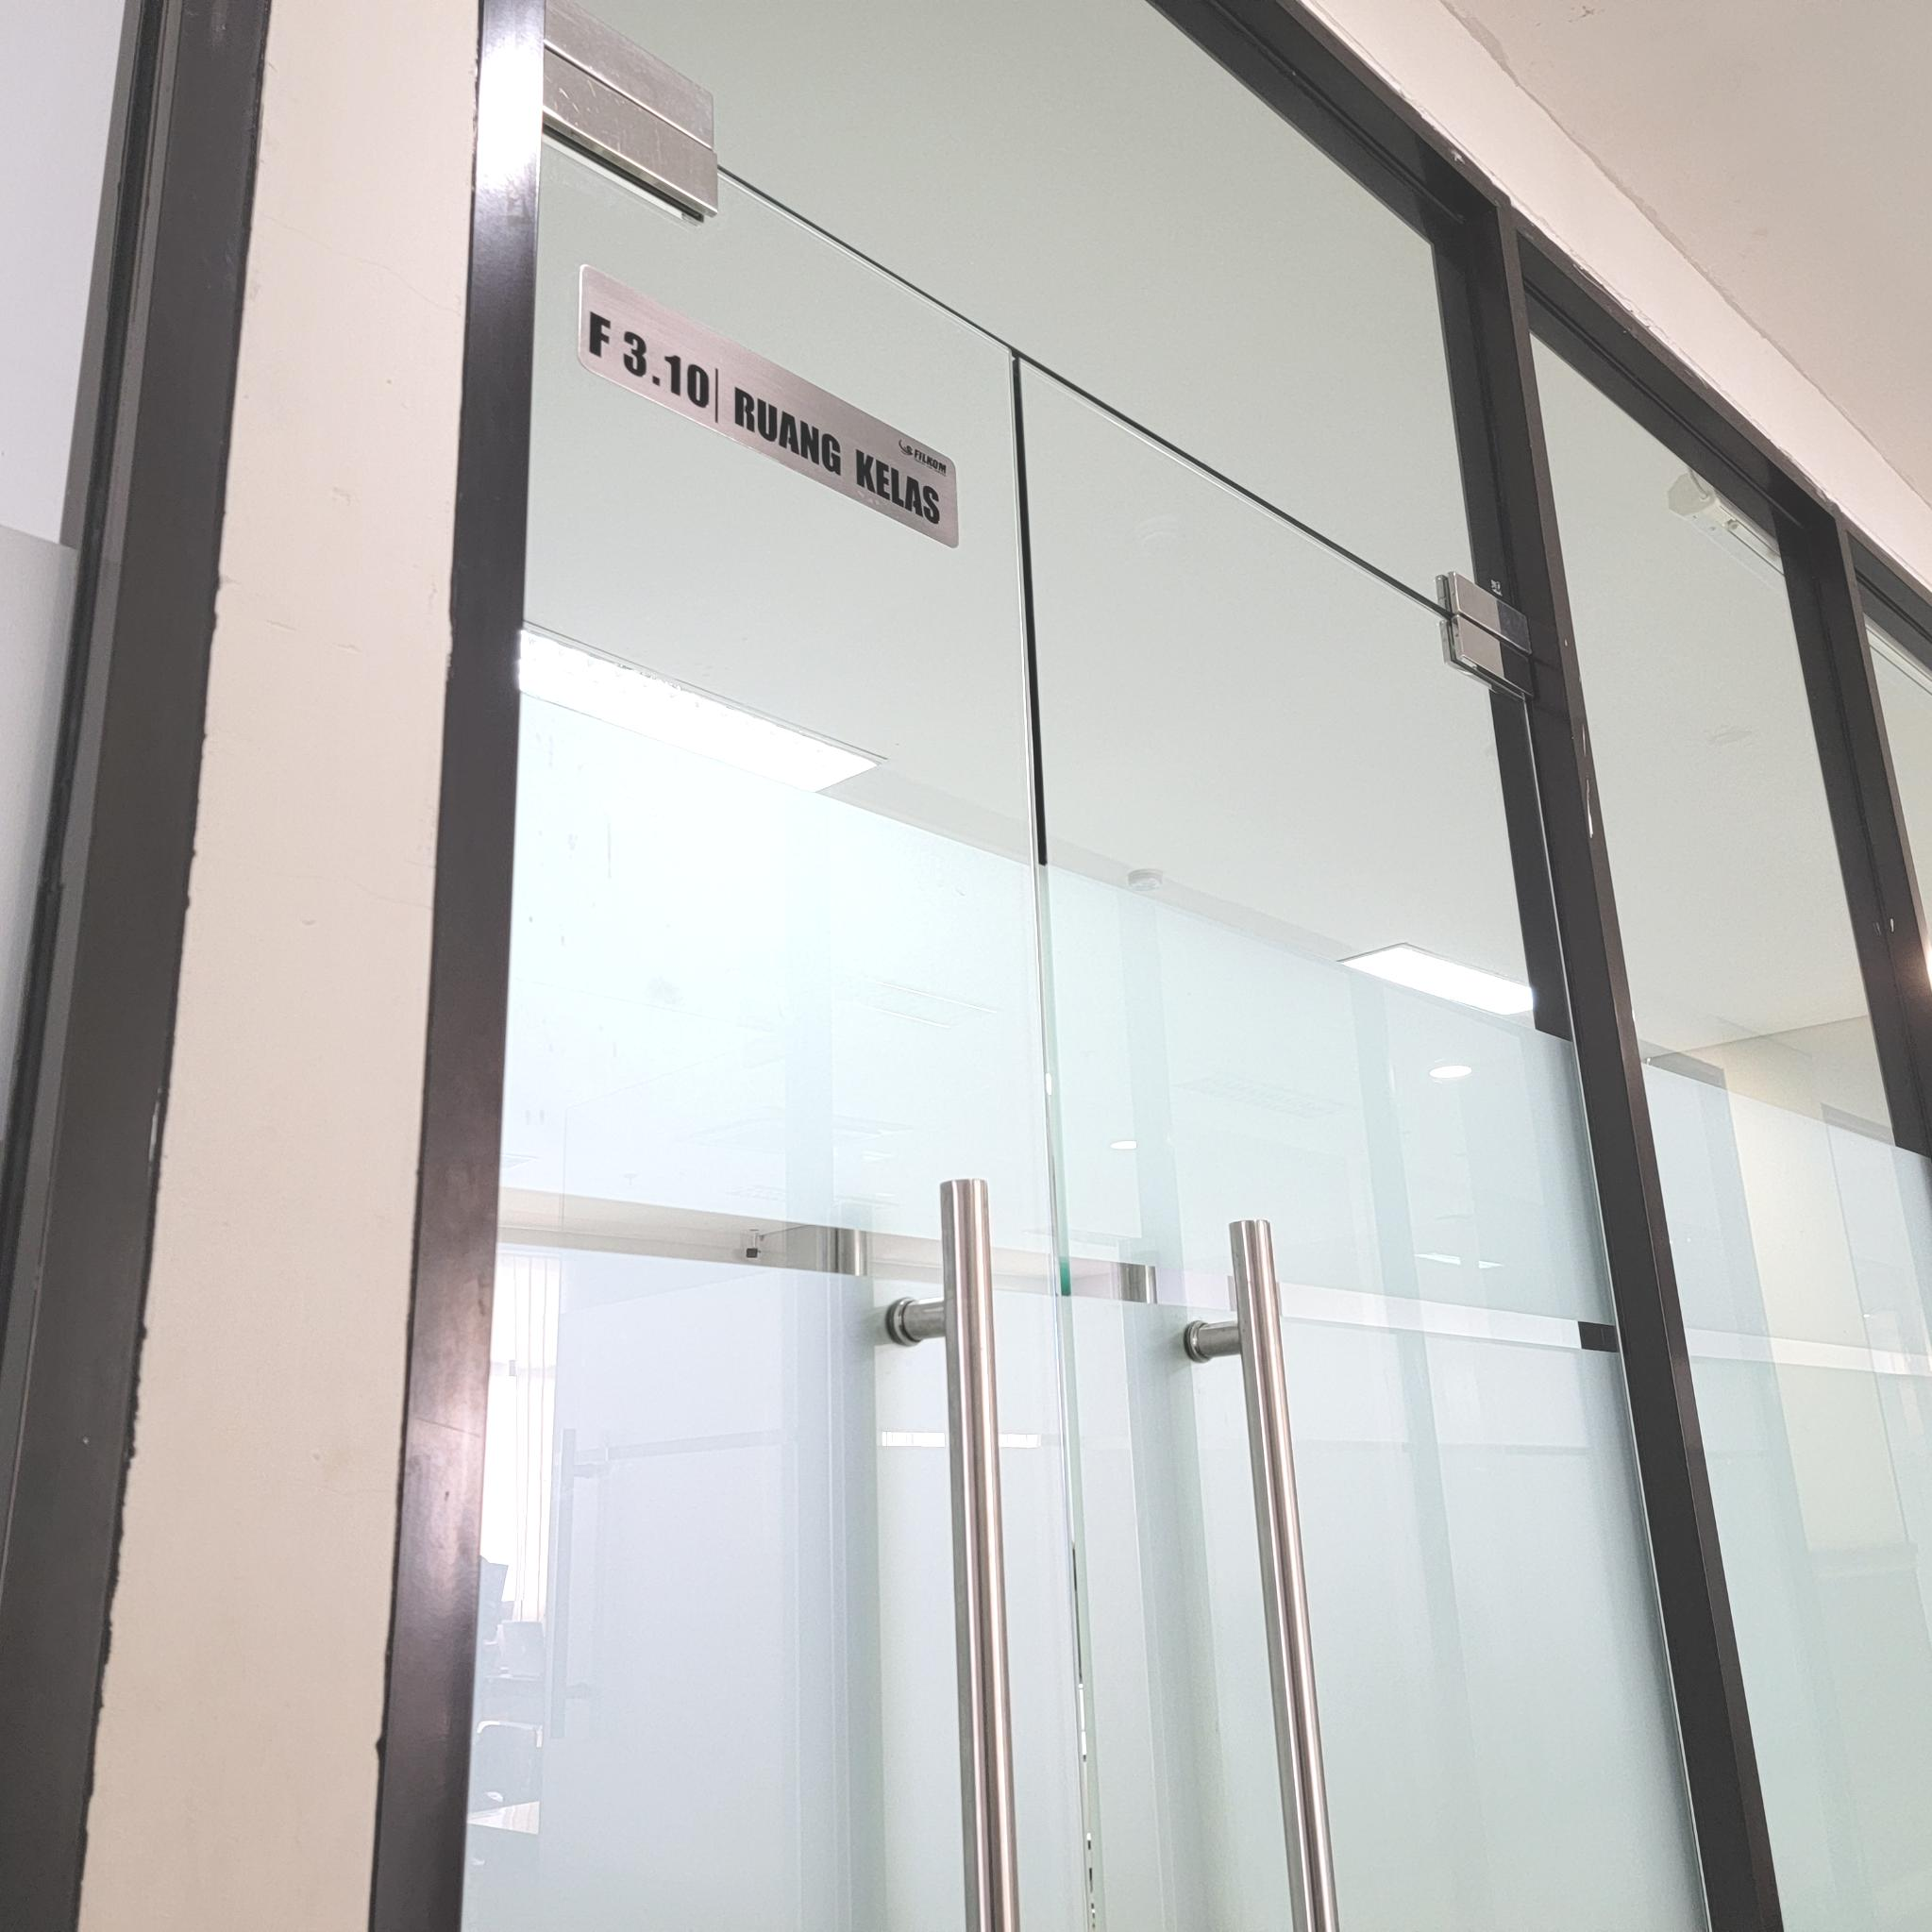plate: (575, 257, 957, 550)
